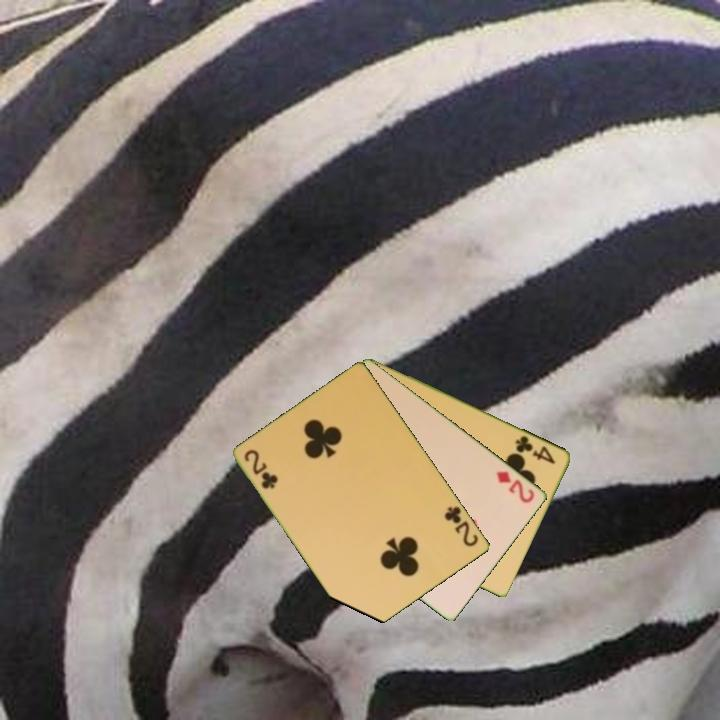2c: (441, 503, 482, 550), (241, 446, 281, 492)
2d: (493, 467, 538, 506)
4c: (512, 432, 559, 467)
